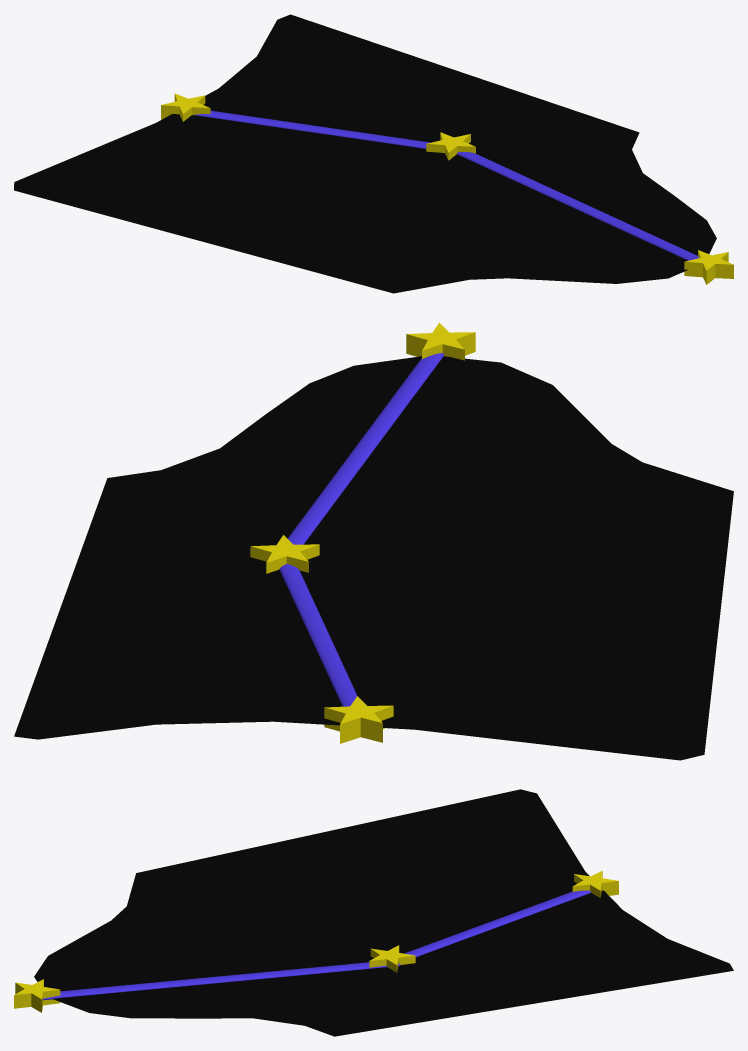
Rendered from Tate-za.glb.
The picture shows the model from 3 angles, top to bottom: view 1: azimuth 30°, elevation 25°; view 2: azimuth 150°, elevation 25°; view 3: azimuth 270°, elevation 25°; orthographic projection. The views are drawn at different scales.
Parts seen in each view (by area): view 1: 円, 円柱.001, 円柱.003, 円.002, 円.010, 円.001; view 2: 円, 円柱.001, 円柱.003, 円.010, 円.002, 円.001; view 3: 円, 円柱.001, 円柱.003, 円.002, 円.010, 円.001.
Boxes of the visible parts, x1,y1,x2,y2 form: 円: (14, 14, 716, 293); 円柱.001: (457, 152, 698, 260); 円柱.003: (194, 110, 430, 148); 円.002: (684, 250, 733, 284); 円.010: (161, 93, 210, 121); 円.001: (426, 132, 475, 160); 円: (14, 356, 733, 760); 円柱.001: (287, 353, 444, 544); 円柱.003: (279, 564, 357, 706); 円.010: (324, 696, 393, 743); 円.002: (406, 322, 475, 360); 円.001: (250, 535, 319, 573); 円: (34, 789, 733, 1036); 円柱.001: (43, 962, 400, 1000); 円柱.003: (404, 890, 591, 956); 円.002: (14, 979, 60, 1012); 円.010: (572, 870, 618, 897); 円.001: (369, 945, 415, 972).
Size of the model in its own units: 34.57 by 0.8918 by 42.53.
